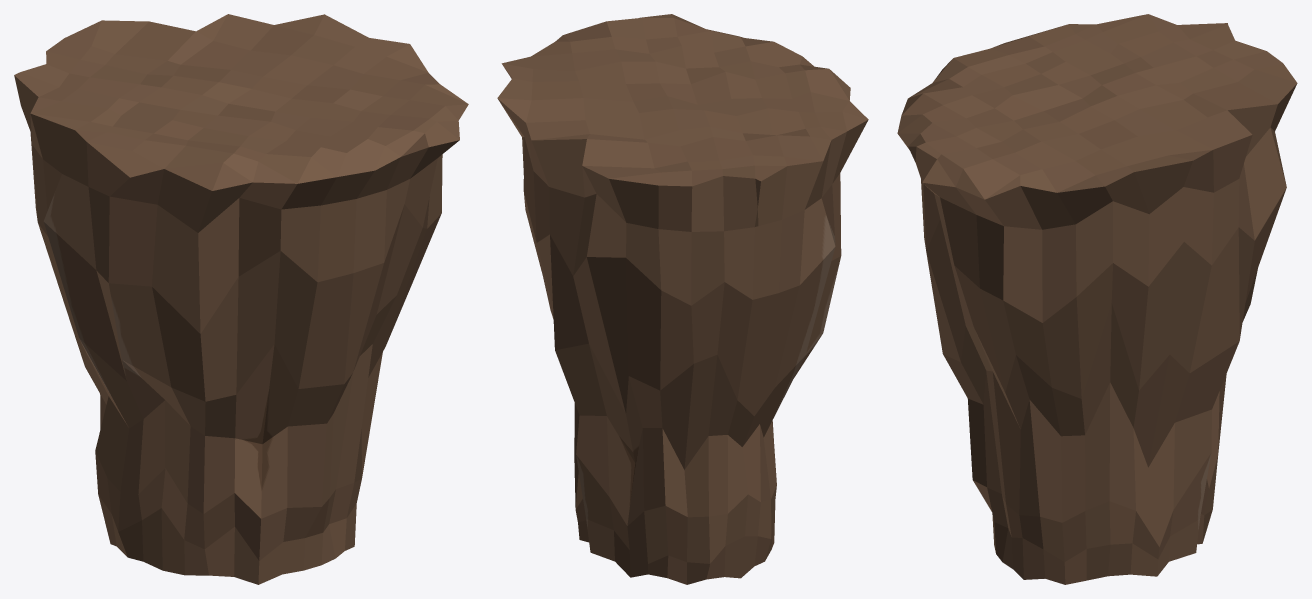
Rendered from Pillar01.fbx.
3 views of the same model, side by side, from view 1: azimuth 30°, elevation 25°; view 2: azimuth 150°, elevation 25°; view 3: azimuth 270°, elevation 25° (orthographic). The views are drawn at different scales.
Parts seen in each view (by area): view 1: pCylinder82; view 2: pCylinder82; view 3: pCylinder82.
Part boxes in pixels (x1=…): pCylinder82: x1=14, y1=14, x2=468, y2=584; pCylinder82: x1=497, y1=14, x2=868, y2=584; pCylinder82: x1=897, y1=14, x2=1297, y2=584.
Bounding box in the file's own units: 7.89 × 9.72 × 7.8.
